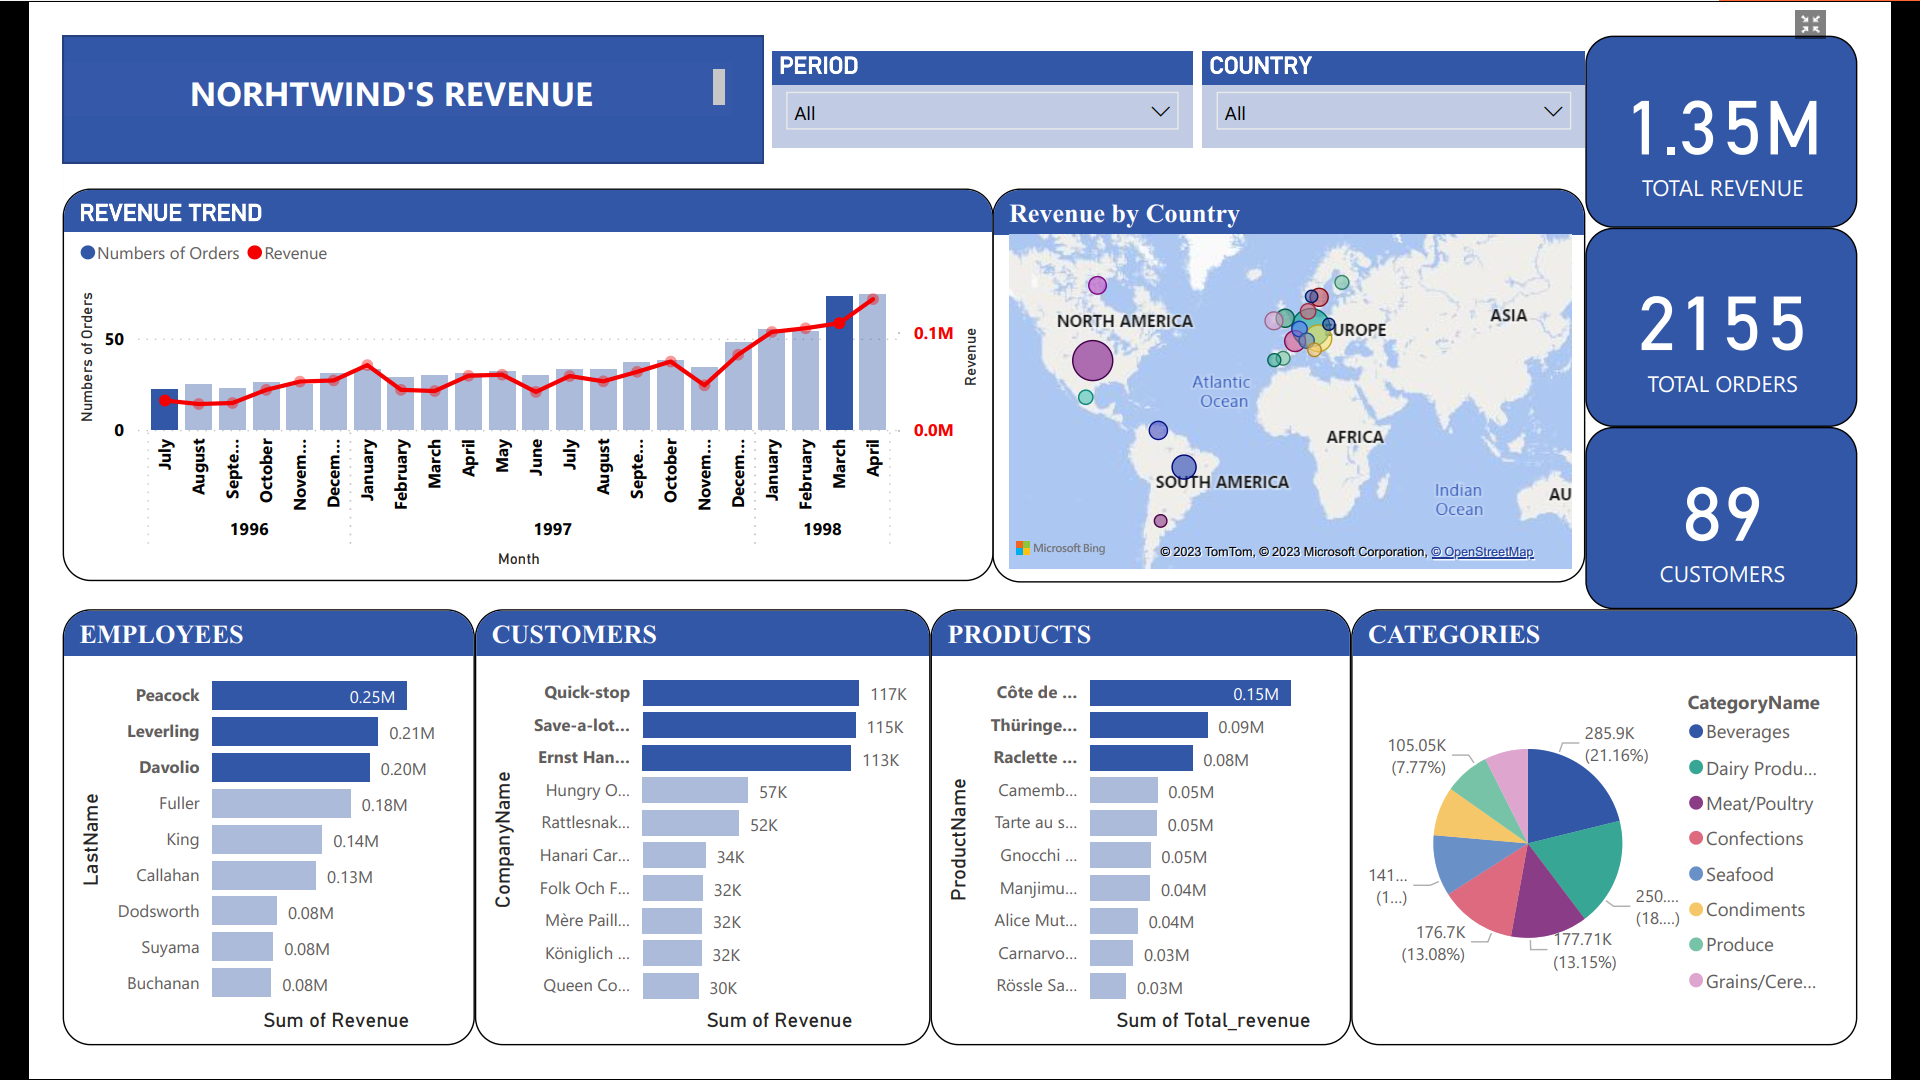

The page's visual inventory and layout, read from the dashboard file:
{"tool":"powerbi","page":{"name":"Page 1","canvas":[1280,720],"ordinal":0},"visuals":[{"type":"map","title":"Revenue by Country","fields":{"Category":["Revenue by country.ShipCountry"],"Series":["Revenue by country.Total_Order"],"Size":["Max(Revenue by country.Total_revenue)"]},"box":[662.9,108.6,422.9,281.4],"z":0},{"type":"clusteredBarChart","title":"PRODUCTS","fields":{"Category":["Revenue by Products.ProductName"],"Y":["Sum(Revenue by Products.Total_revenue)"]},"box":[618.6,408.6,300,311.4],"z":1000},{"type":"lineClusteredColumnComboChart","title":"REVENUE TREND","fields":{"Y2":["Sum(Revenue by years.REVENUE)"],"Y":["CountNonNull(Revenue by years.Orders)"],"Category":["Revenue by years.DATE.Variation.Date Hierarchy.Year","Revenue by years.DATE.Variation.Date Hierarchy.Month"]},"box":[0,108.6,663.8,280.7],"z":2000},{"type":"clusteredBarChart","title":"EMPLOYEES","fields":{"Category":["Employee's performance.LastName"],"Y":["Sum(Employee's performance.Revenue)"]},"box":[0,408.6,294.3,311.4],"z":3000},{"type":"pieChart","title":"CATEGORIES","fields":{"Y":["Sum(Categories_revenue.Category_revenue)"],"Category":["Categories_revenue.CategoryName"]},"box":[918.6,408.6,361.4,311.4],"z":4000},{"type":"clusteredBarChart","title":"CUSTOMERS","fields":{"Category":["Customers.CompanyName"],"Y":["Sum(Customers.Revenue)"]},"box":[294.3,408.6,324.3,311.4],"z":5000},{"type":"shape","box":[0,0,500,91.4],"z":6000},{"type":"textbox","box":[0,18.6,477.1,38.6],"z":7000},{"type":"card","fields":{"Values":["Sum(total.TOTAL REVENUE)"]},"box":[1085.7,0,194.3,137.1],"z":8000},{"type":"card","fields":{"Values":["Sum(total.TOTAL ORDERS)"]},"box":[1085.7,137.1,194.3,141.4],"z":9000},{"type":"card","fields":{"Values":["Sum(total.CUSTOMERS)"]},"box":[1085.7,278.6,194.3,130],"z":10000},{"type":"slicer","title":"PERIOD ","fields":{"Values":["Revenue by years.DATE.Variation.Date Hierarchy.Year","Revenue by years.DATE.Variation.Date Hierarchy.Quarter","Revenue by years.DATE.Variation.Date Hierarchy.Month"]},"box":[505.7,11.4,300,68.6],"z":11000},{"type":"slicer","title":"COUNTRY ","fields":{"Values":["Revenue by country.ShipCountry"]},"box":[812.9,11.4,272.9,68.6],"z":12000}]}

Visuals, with their boxes in screenshot pixels (x1, y1, x2, y2), scaled from the page's 1280x720 canvas onto the 1920x1080 screenshot:
"Revenue by Country" map: bbox=[994, 163, 1629, 585]
"PRODUCTS" clusteredBarChart: bbox=[928, 613, 1378, 1079]
"REVENUE TREND" lineClusteredColumnComboChart: bbox=[0, 163, 996, 584]
"EMPLOYEES" clusteredBarChart: bbox=[0, 613, 441, 1079]
"CATEGORIES" pieChart: bbox=[1378, 613, 1919, 1079]
"CUSTOMERS" clusteredBarChart: bbox=[441, 613, 928, 1079]
shape: bbox=[0, 0, 750, 137]
textbox: bbox=[0, 28, 716, 86]
card - Sum(total.TOTAL REVENUE): bbox=[1629, 0, 1919, 206]
card - Sum(total.TOTAL ORDERS): bbox=[1629, 206, 1919, 418]
card - Sum(total.CUSTOMERS): bbox=[1629, 418, 1919, 613]
"PERIOD " slicer: bbox=[759, 17, 1209, 120]
"COUNTRY " slicer: bbox=[1219, 17, 1629, 120]
